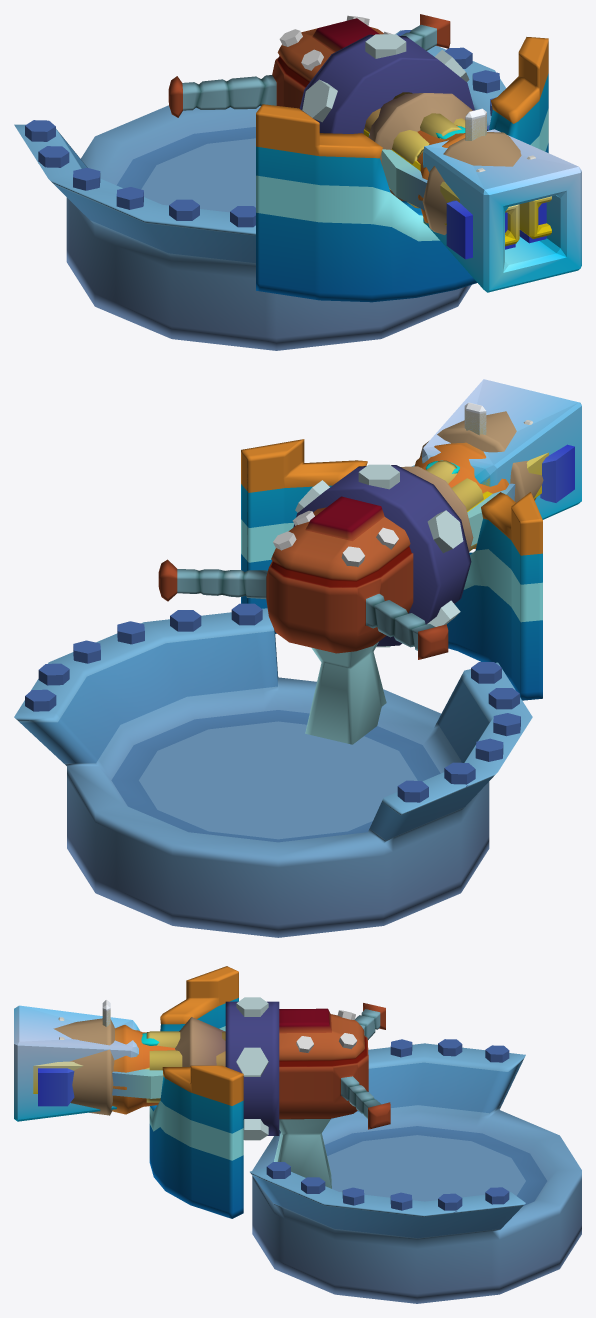
File: пУШКА ЗОМБИ.fbx
The picture shows the model from 3 angles, top to bottom: view 1: azimuth 30°, elevation 25°; view 2: azimuth 150°, elevation 25°; view 3: azimuth 270°, elevation 25°; orthographic projection. The views are drawn at different scales.
Visible parts, largest first — view 1: Cylinder.005, cube 222, 3.1, 2.2, Cube.004, 5.1, 5.2, 4.2, 2.1, Cylinder.020, 4.1, 3.2; view 2: Cylinder.005, Cube.004, cube 222, 2.2, 3.1, 5.1, 5.2, 4.1, Cylinder.020; view 3: Cylinder.005, cube 222, Cube.004, 2.2, 3.1, 5.1, 5.2, 4.1, 2.1, Cylinder.020, 4.2.
Boxes of the visible parts, box(x1,y1,x2,y2) form: Cylinder.005: box(14, 30, 506, 350); cube 222: box(256, 37, 548, 302); 3.1: box(423, 108, 581, 292); 2.2: box(299, 34, 474, 208); Cube.004: box(168, 14, 450, 117); 5.1: box(368, 93, 521, 234); 5.2: box(369, 126, 546, 259); 4.2: box(363, 129, 551, 246); 2.1: box(364, 108, 465, 163); Cylinder.020: box(279, 15, 392, 70); 4.1: box(417, 125, 465, 223); 3.2: box(423, 114, 486, 224); Cylinder.005: box(14, 603, 532, 937); Cube.004: box(158, 496, 448, 744); cube 222: box(241, 439, 542, 700); 2.2: box(293, 460, 476, 647); 3.1: box(422, 379, 581, 519); 5.1: box(401, 411, 543, 552); 5.2: box(411, 444, 574, 545); 4.1: box(415, 442, 508, 548); Cylinder.020: box(273, 510, 398, 566); Cylinder.005: box(250, 1039, 581, 1303); cube 222: box(149, 966, 243, 1218); Cube.004: box(274, 1003, 390, 1188); 2.2: box(146, 997, 279, 1140); 3.1: box(14, 999, 139, 1121); 5.1: box(53, 1017, 225, 1115); 5.2: box(38, 1033, 163, 1106); 4.1: box(112, 1025, 175, 1114); 2.1: box(149, 1031, 225, 1070); Cylinder.020: box(296, 1010, 357, 1052); 4.2: box(33, 1017, 149, 1093).
Size of the model in its own units: 339 by 215 by 476.
